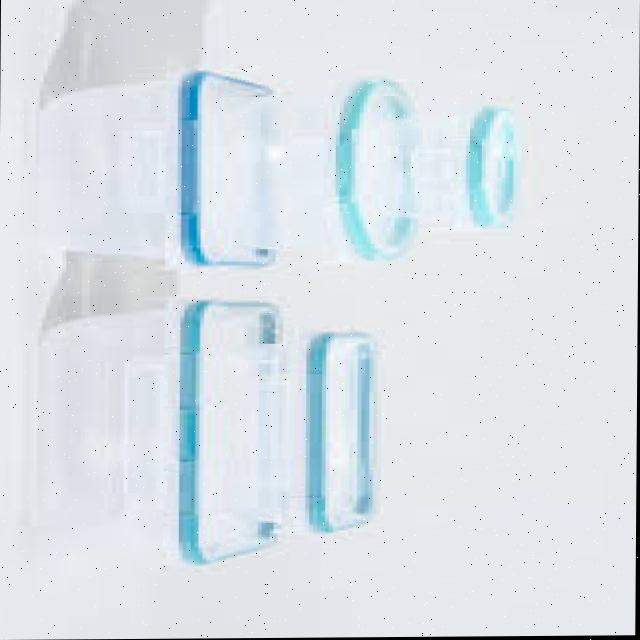disposable: (1, 301, 304, 581), (23, 58, 295, 281), (197, 333, 410, 554), (213, 86, 439, 269), (337, 108, 548, 241)
